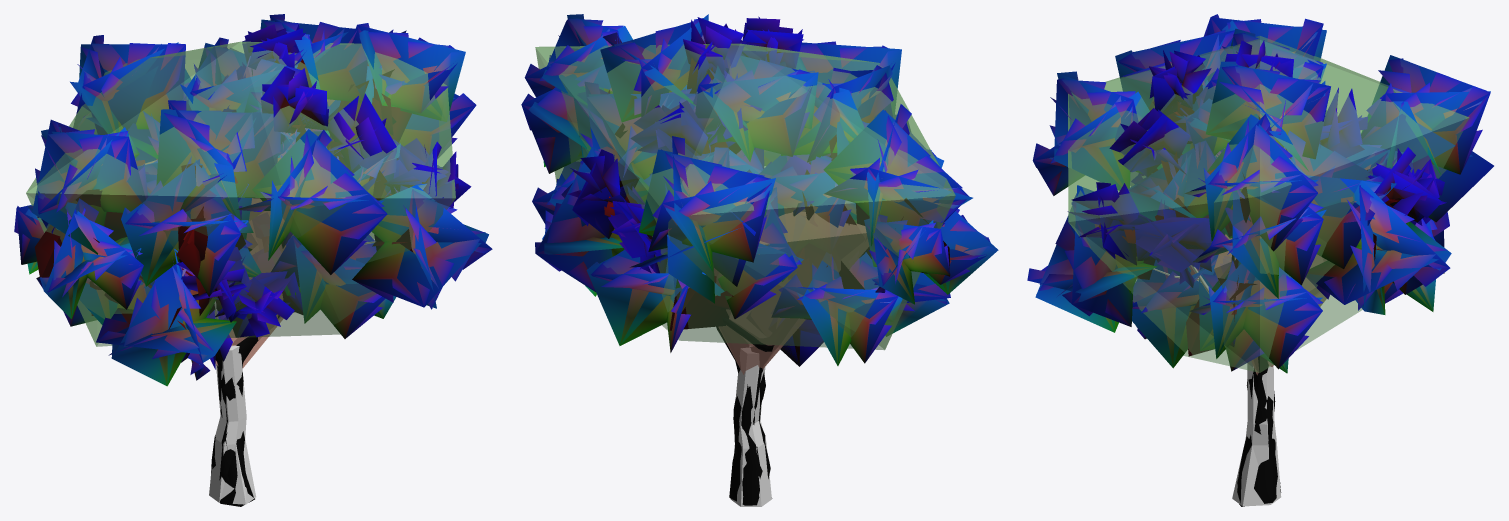
The model's file is scraggly_2.dae.
3 views of the same model, side by side, from view 1: azimuth 30°, elevation 25°; view 2: azimuth 150°, elevation 25°; view 3: azimuth 270°, elevation 25° (orthographic). The views are drawn at different scales.
Visible parts, largest first — view 1: scraggly_2_a1300, Colmesh-1, scraggly_2_a350; view 2: Colmesh-1, scraggly_2_a1300, scraggly_2_a350; view 3: scraggly_2_a1300, Colmesh-1, scraggly_2_a350.
Boxes of the visible parts, x1,y1,x2,y2 form: scraggly_2_a1300: (14,14,492,506); Colmesh-1: (26,41,455,504); scraggly_2_a350: (16,15,491,506); Colmesh-1: (535,43,955,506); scraggly_2_a1300: (521,14,998,505); scraggly_2_a350: (521,14,997,505); scraggly_2_a1300: (1027,14,1490,506); Colmesh-1: (1068,36,1469,506); scraggly_2_a350: (1028,17,1493,506).
Bounding box in the file's own units: 8.51 × 7.58 × 8.52.
